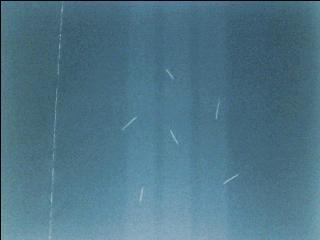crack: (43, 0, 68, 240)
scratch: (203, 93, 228, 124), (120, 112, 144, 138), (168, 116, 183, 146), (220, 170, 242, 189), (161, 65, 179, 85), (137, 184, 145, 205)
